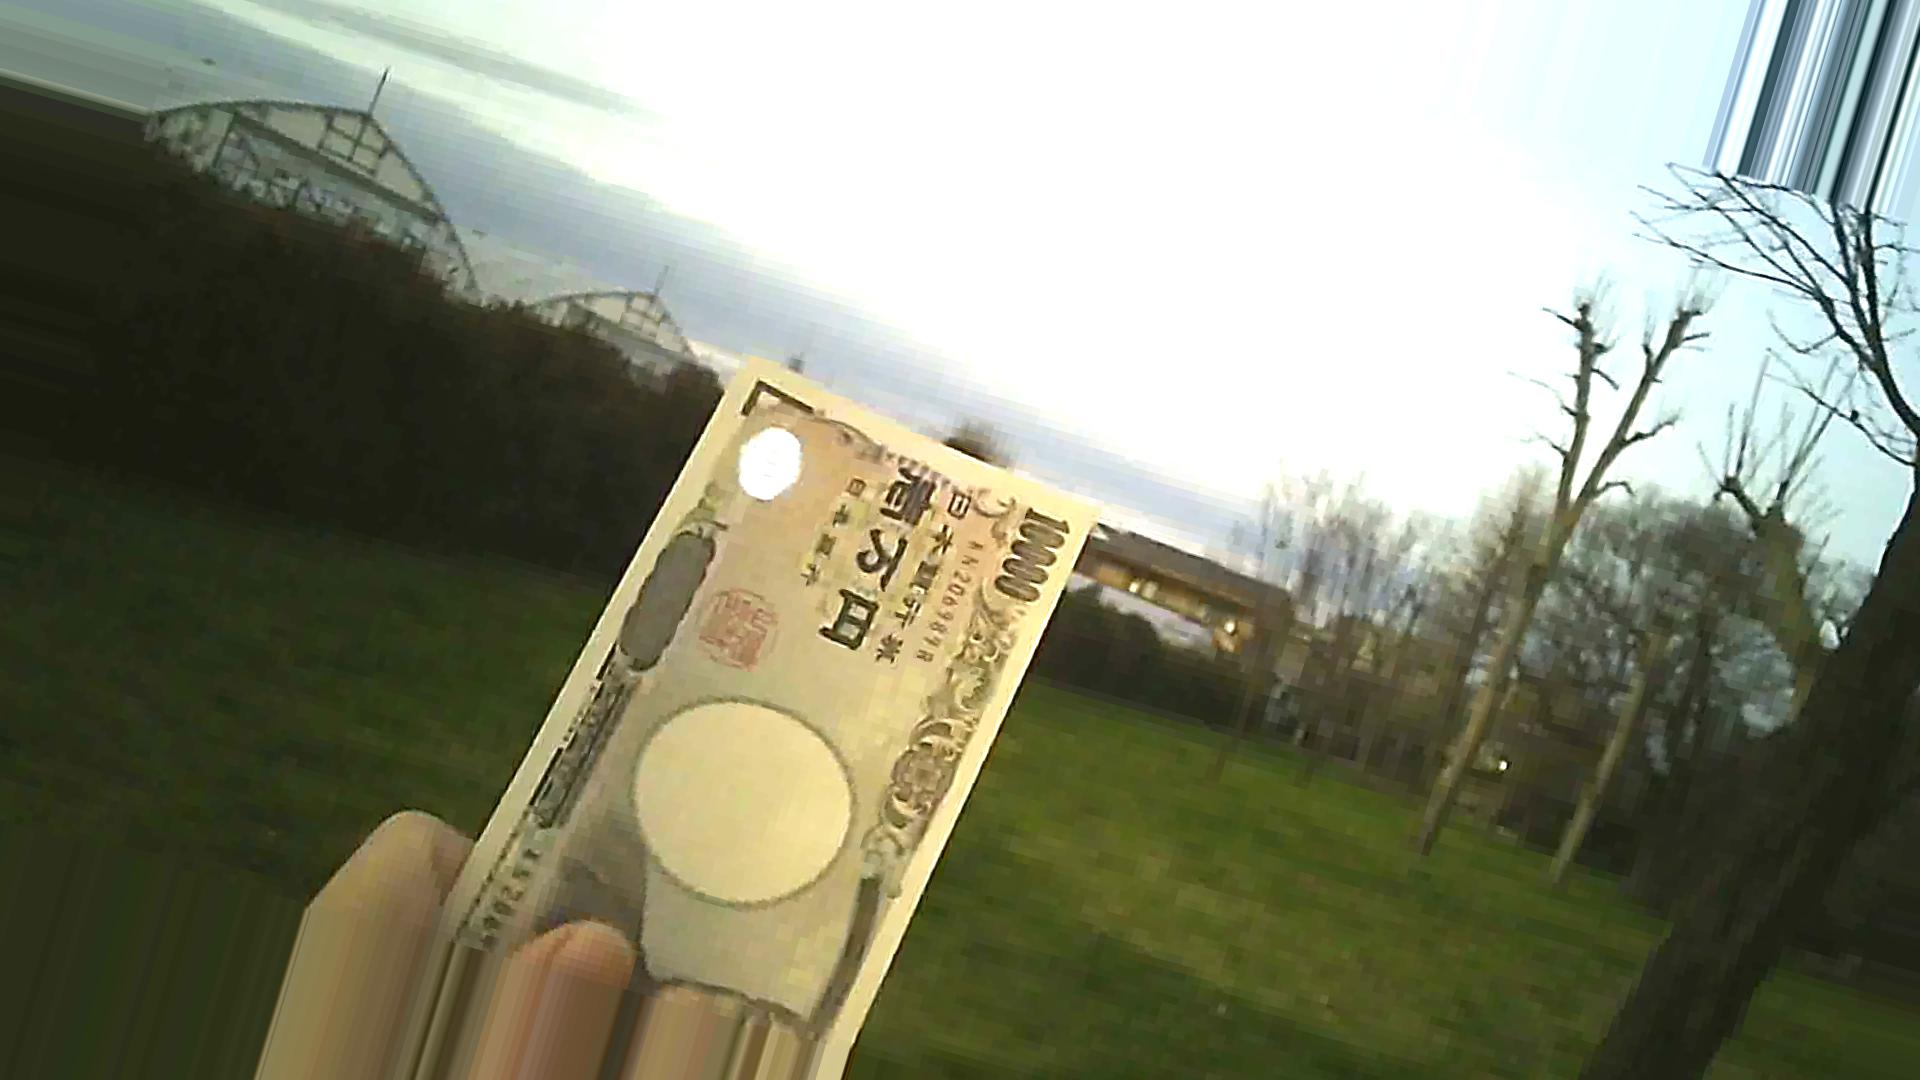10,000 Yen: (414, 328, 1114, 1048)
